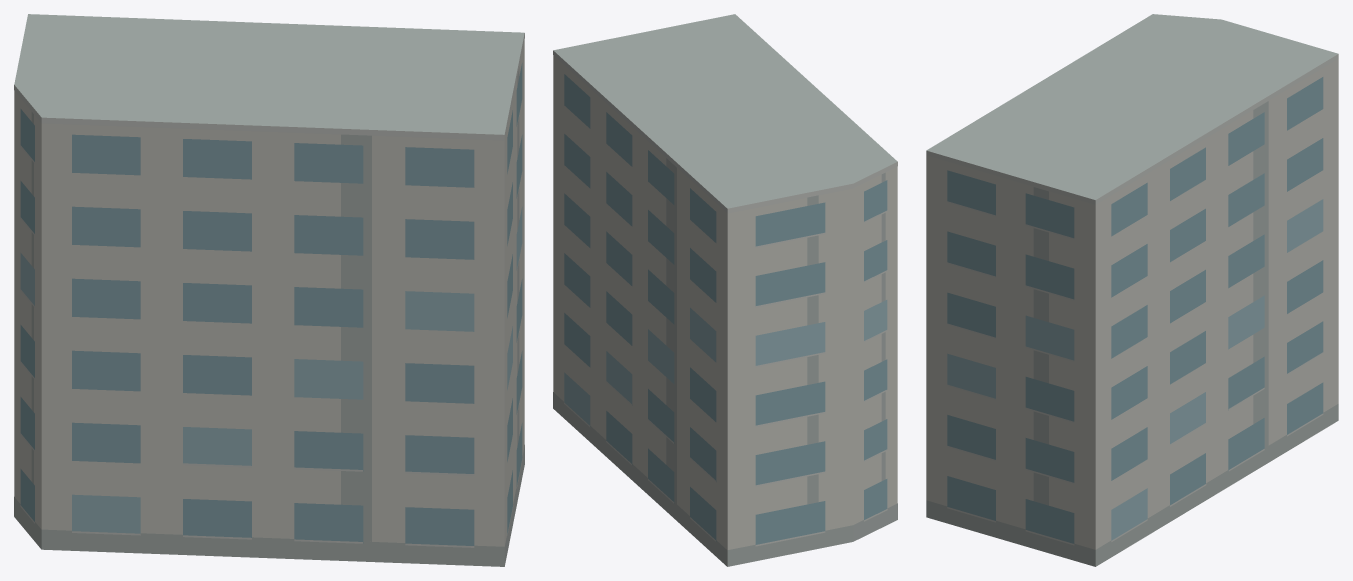
Rendered from survey-upis-32674773.glb.
3 renders of one model, left to right at view 1: azimuth 30°, elevation 25°; view 2: azimuth 150°, elevation 25°; view 3: azimuth 270°, elevation 25°, orthographic. The views are drawn at different scales.
Visible parts, largest first — view 1: survey-upis-32674773.tmp; view 2: survey-upis-32674773.tmp; view 3: survey-upis-32674773.tmp.
Boxes of the visible parts, x1=… form: survey-upis-32674773.tmp: x1=14, y1=14, x2=524, y2=566; survey-upis-32674773.tmp: x1=553, y1=14, x2=897, y2=566; survey-upis-32674773.tmp: x1=926, y1=14, x2=1338, y2=566.
Size of the model in its own units: 19.93 by 18.3 by 18.66.
